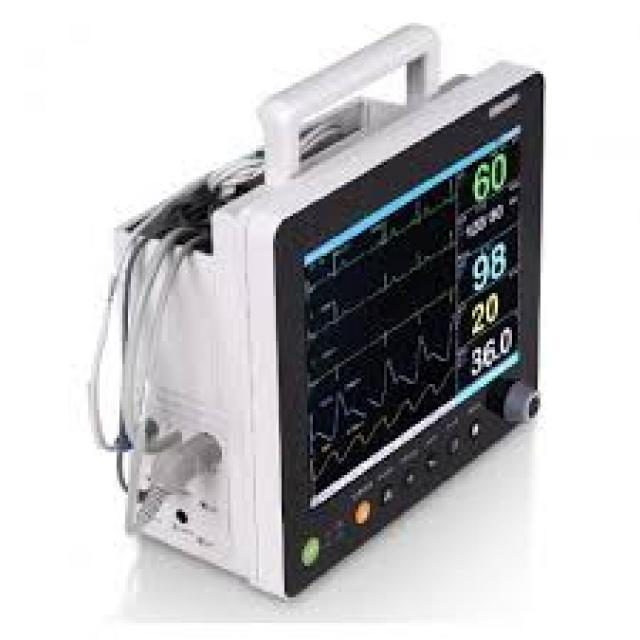cardiac_monitor: (119, 60, 575, 567)
